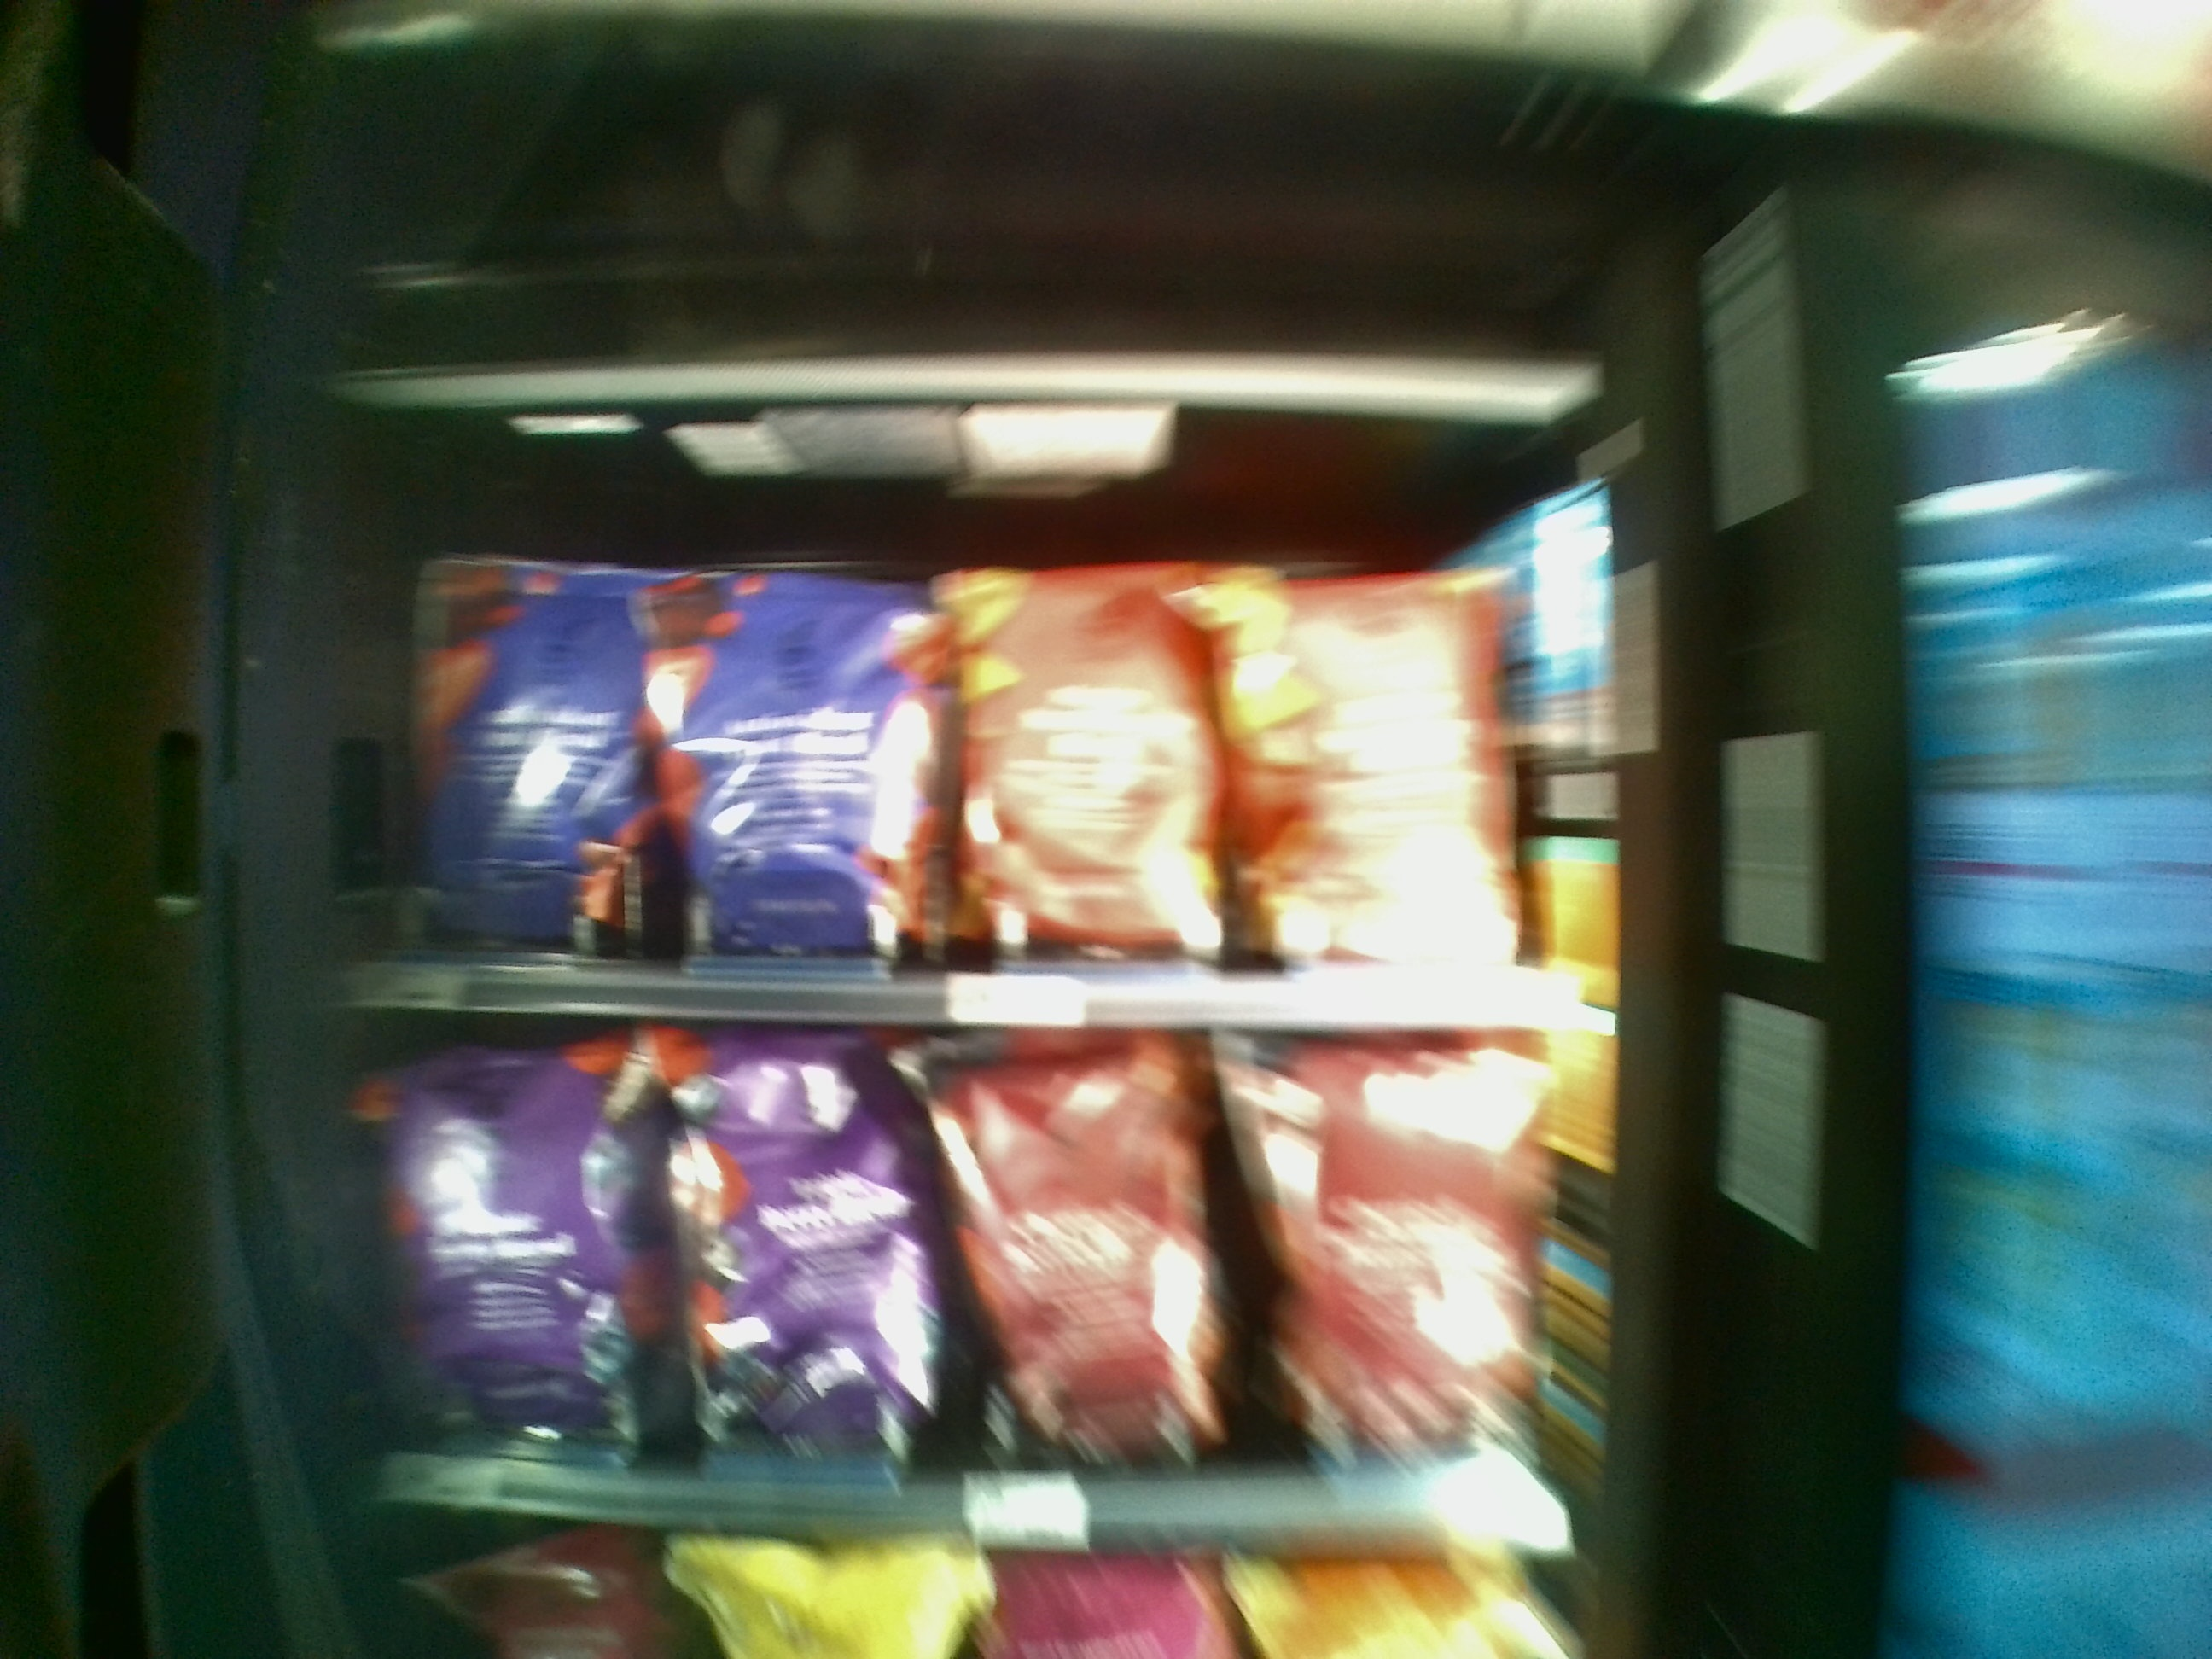shelf: (345, 390, 1634, 1040), (373, 1032, 1561, 1535)
